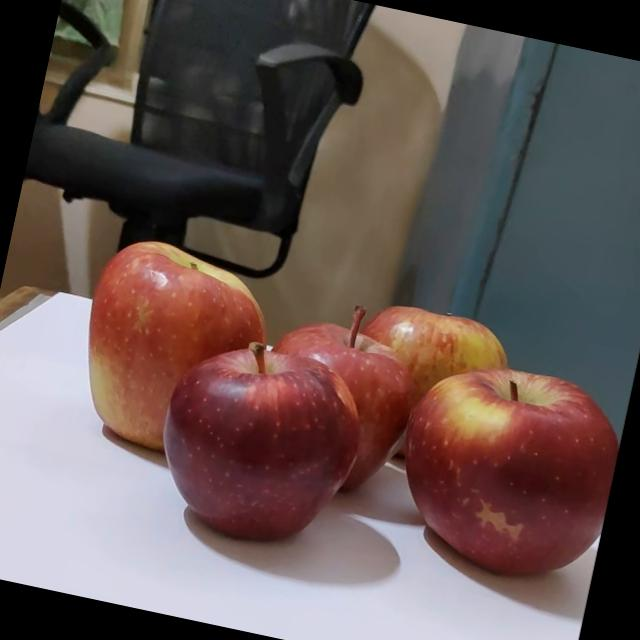apple: (366, 334, 634, 592), (125, 308, 372, 554), (61, 216, 292, 462), (240, 272, 439, 502), (336, 291, 532, 473)
